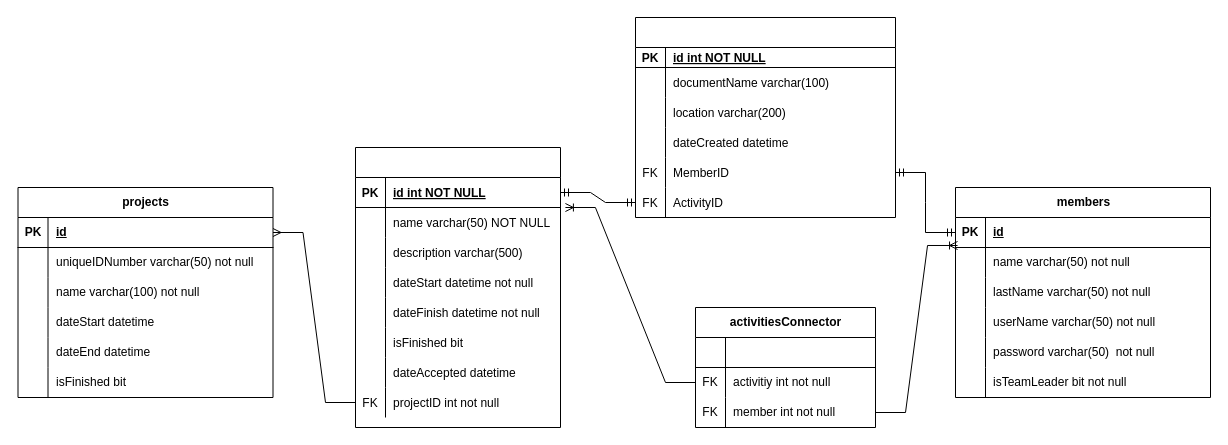
The diagram is 1228 pixels wide and 445 high, and some of its shapes have lost their labels. Each missing label, with the box of its shape:
activities: (354, 146, 560, 428)
proofOfDelivery: (634, 16, 896, 218)
